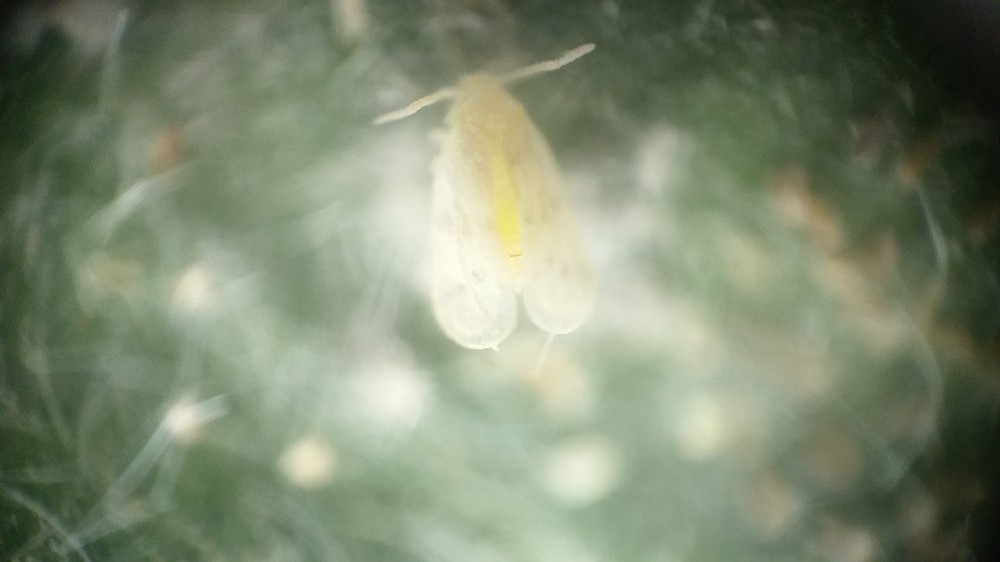Mosca Blanca: (364, 41, 646, 360)
